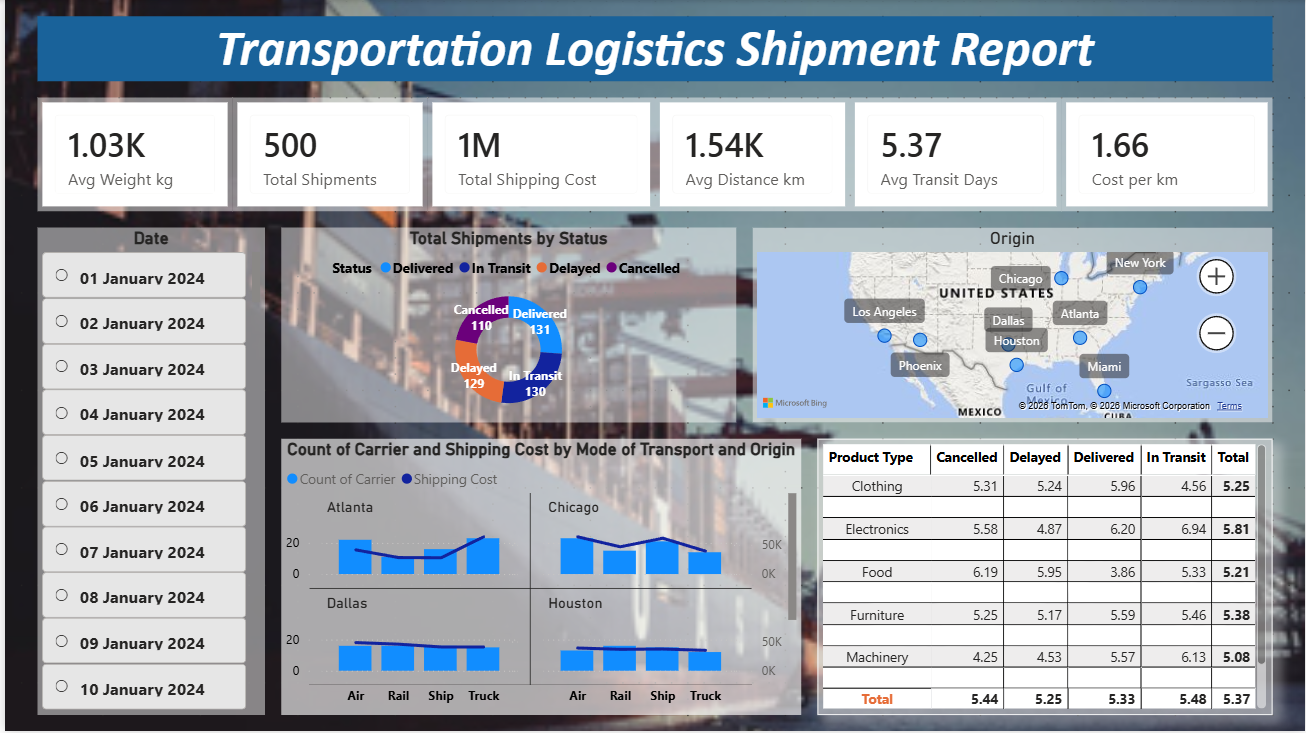

What the dashboard file says about the page in this screenshot:
{"tool":"powerbi","page":{"name":"Summarry","canvas":[1280,720],"ordinal":0},"visuals":[{"type":"cardVisual","fields":{"Data":["Shipment.Total Shipments"]},"box":[224,96,192,112],"z":0},{"type":"cardVisual","fields":{"Data":["Shipment.Total Shipping Cost"]},"box":[416,96,224,112],"z":1000},{"type":"cardVisual","fields":{"Data":["Shipment.Avg Distance km"]},"box":[640,96,192,112],"z":2000},{"type":"cardVisual","fields":{"Data":["Shipment.Avg Transit Days"]},"box":[832,96,208,112],"z":3000},{"type":"cardVisual","fields":{"Data":["Shipment.Avg Weight kg"]},"box":[32,96,192,112],"z":4000},{"type":"cardVisual","fields":{"Data":["Shipment.Cost per km"]},"box":[1040,96,208,112],"z":5000},{"type":"donutChart","fields":{"Category":["Shipment.Status"],"Y":["Shipment.Total Shipments"]},"box":[272,224,448,192],"z":6000},{"type":"lineStackedColumnComboChart","fields":{"Category":["Shipment.Mode of Transport"],"Y2":["Shipment.Total Shipping Cost"],"Rows":["Shipment.Origin"],"Y":["CountNonNull(Shipment.Carrier)"]},"box":[272,432,512,272],"z":7000},{"type":"map","fields":{"Category":["Shipment.Origin"]},"box":[736,224,512,192],"z":8000},{"type":"pivotTable","fields":{"Rows":["Shipment.Product Type"],"Columns":["Shipment.Status"],"Values":["Shipment.Avg Transit Days"]},"box":[800,432,448,272],"z":9000},{"type":"advancedSlicerVisual","fields":{"Values":["Shipment.Date"]},"box":[32,224,224,480],"z":10000},{"type":"shape","title":"Transportation Logistics Shipment Report","box":[32,16,1216,64],"z":11000}]}

Visuals, with their boxes in screenshot pixels (x1, y1, x2, y2), scaled from the page's 1280x720 canvas onto the 1306x733 screenshot:
cardVisual - Shipment.Total Shipments: left=229, top=98, right=424, bottom=212
cardVisual - Shipment.Total Shipping Cost: left=424, top=98, right=653, bottom=212
cardVisual - Shipment.Avg Distance km: left=653, top=98, right=849, bottom=212
cardVisual - Shipment.Avg Transit Days: left=849, top=98, right=1061, bottom=212
cardVisual - Shipment.Avg Weight kg: left=33, top=98, right=229, bottom=212
cardVisual - Shipment.Cost per km: left=1061, top=98, right=1273, bottom=212
donutChart - Shipment.Status x Shipment.Total Shipments: left=278, top=228, right=735, bottom=424
lineStackedColumnComboChart - Shipment.Mode of Transport x Shipment.Total Shipping Cost: left=278, top=440, right=800, bottom=717
map - Shipment.Origin: left=751, top=228, right=1273, bottom=424
pivotTable - Shipment.Product Type x Shipment.Status: left=816, top=440, right=1273, bottom=717
advancedSlicerVisual - Shipment.Date: left=33, top=228, right=261, bottom=717
"Transportation Logistics Shipment Report" shape: left=33, top=16, right=1273, bottom=81
